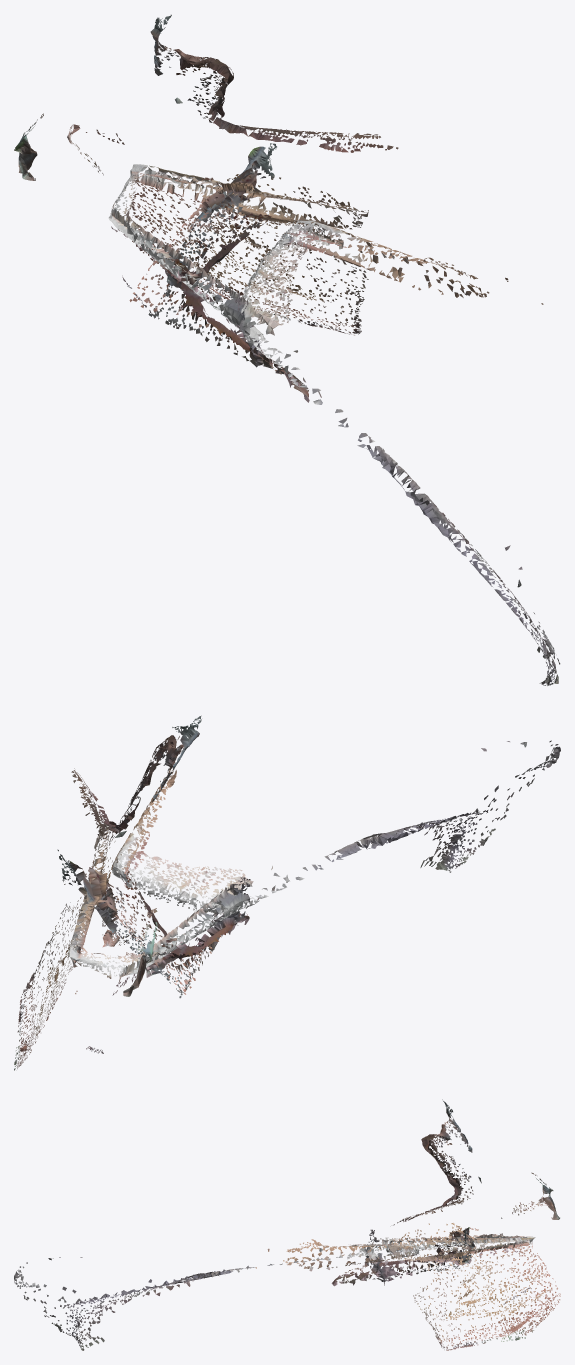
3 views of the same model, one above another, from view 1: azimuth 30°, elevation 25°; view 2: azimuth 150°, elevation 25°; view 3: azimuth 270°, elevation 25° (orthographic). The views are drawn at different scales.
Visible parts, largest first — view 1: geometry_0; view 2: geometry_0; view 3: geometry_0.
Part boxes in pixels (x1,y1,x2,y2): geometry_0: [14, 14, 560, 685]; geometry_0: [14, 715, 560, 1070]; geometry_0: [14, 1099, 560, 1350].
Bounding box in the file's own units: 0.5676 × 0.9279 × 1.96.
